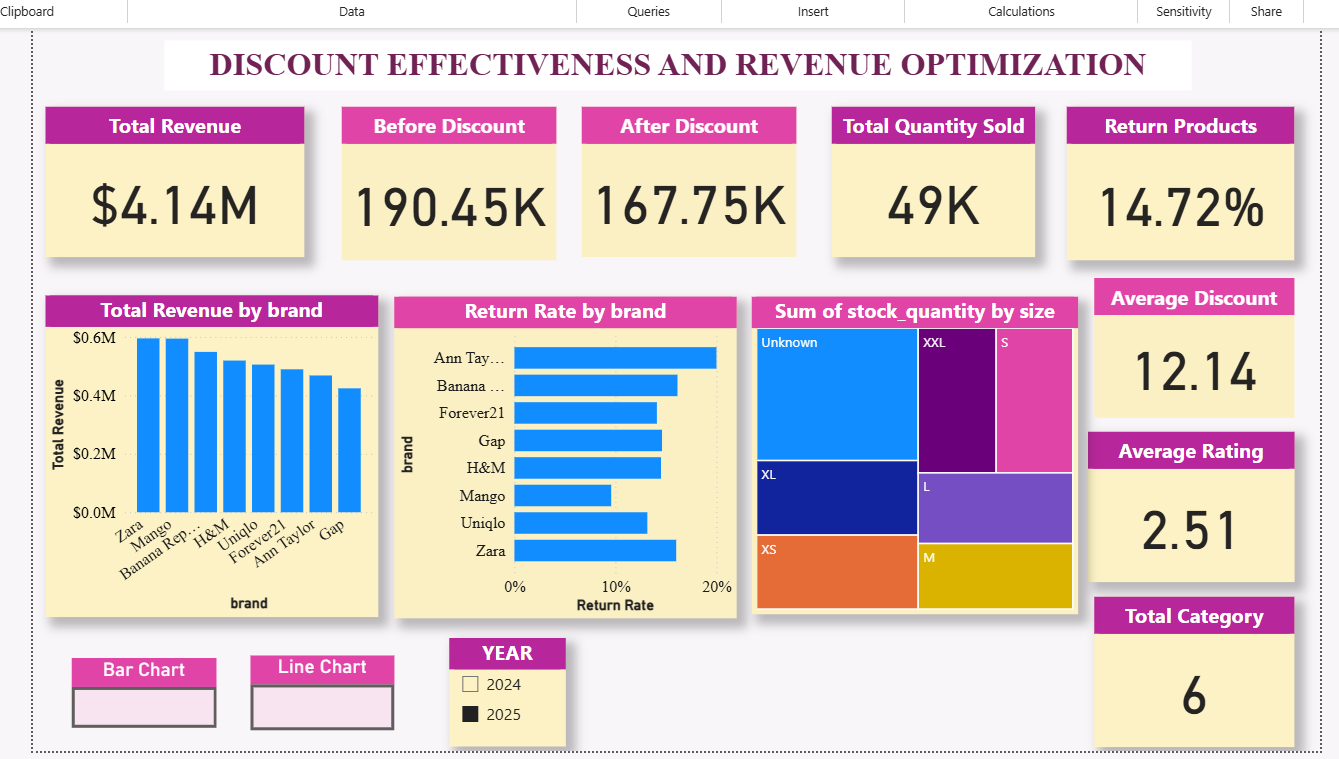

What the dashboard file says about the page in this screenshot:
{"tool":"powerbi","page":{"name":"Page 1","canvas":[1280,720],"ordinal":0},"visuals":[{"type":"clusteredColumnChart","fields":{"Y":["discount_data.Total Revenue"],"Category":["discount_data.brand"]},"box":[12.4,266.2,330.9,319.7],"z":0},{"type":"card","title":"Total Revenue","fields":{"Values":["discount_data.Total Revenue"]},"box":[12.4,78.4,257.5,149.3],"z":1000},{"type":"card","title":"Average Rating","fields":{"Values":["discount_data.Average rating"]},"box":[1049.9,401.8,205.3,149.3],"z":2000},{"type":"card","title":"Total Quantity Sold","fields":{"Values":["discount_data.Total Quantity Sold"]},"box":[794.9,78.4,202.8,149.3],"z":3000},{"type":"card","title":"Total Category","fields":{"Values":["discount_data.Total Brand"]},"box":[1056.1,566,199,149.3],"z":4000},{"type":"card","title":"Return Products","fields":{"Values":["discount_data.Return Rate"]},"box":[1028.8,78.4,226.4,153],"z":5000},{"type":"slicer","title":"YEAR","fields":{"Values":["date.YEAR"]},"box":[414.2,607.1,115.7,108.2],"z":6000},{"type":"actionButton","title":"Bar Chart","box":[38.6,627,144.3,69.7],"z":8000},{"type":"actionButton","title":"Line Chart","box":[216.4,624.5,143.1,74.6],"z":9000},{"type":"clusteredBarChart","fields":{"Category":["discount_data.brand"],"Y":["discount_data.Return Rate"]},"box":[359.5,267.5,340.8,319.7],"z":11000},{"type":"treemap","fields":{"Group":["discount_data.size"],"Values":["Sum(discount_data.stock_quantity)"]},"box":[715.3,267.5,324.7,316],"z":11001},{"type":"textbox","box":[130.6,12.4,1022.5,49.8],"z":11002},{"type":"card","title":"Average Discount","fields":{"Values":["discount_data.Average Discount"]},"box":[1056.1,248.8,199,139.3],"z":11003},{"type":"card","title":"Before Discount","fields":{"Values":["discount_data.Before discount"]},"box":[307.3,78.4,214,153],"z":11004},{"type":"card","title":"After Discount","fields":{"Values":["discount_data.After Discount"]},"box":[546.1,78.4,214,149.3],"z":11005}]}

Visuals, with their boxes on the page's 1280x720 design canvas (x1, y1, x2, y2). These are canvas units, not pixel positions in the 1339x759 screenshot, which may show the page scaled, cropped or inside an application window:
clusteredColumnChart - discount_data.Total Revenue x discount_data.brand: crop(12, 266, 343, 586)
"Total Revenue" card: crop(12, 78, 270, 228)
"Average Rating" card: crop(1050, 402, 1255, 551)
"Total Quantity Sold" card: crop(795, 78, 998, 228)
"Total Category" card: crop(1056, 566, 1255, 715)
"Return Products" card: crop(1029, 78, 1255, 231)
"YEAR" slicer: crop(414, 607, 530, 715)
"Bar Chart" actionButton: crop(39, 627, 183, 697)
"Line Chart" actionButton: crop(216, 624, 360, 699)
clusteredBarChart - discount_data.brand x discount_data.Return Rate: crop(360, 268, 700, 587)
treemap - discount_data.size x Sum(discount_data.stock_quantity): crop(715, 268, 1040, 584)
textbox: crop(131, 12, 1153, 62)
"Average Discount" card: crop(1056, 249, 1255, 388)
"Before Discount" card: crop(307, 78, 521, 231)
"After Discount" card: crop(546, 78, 760, 228)
